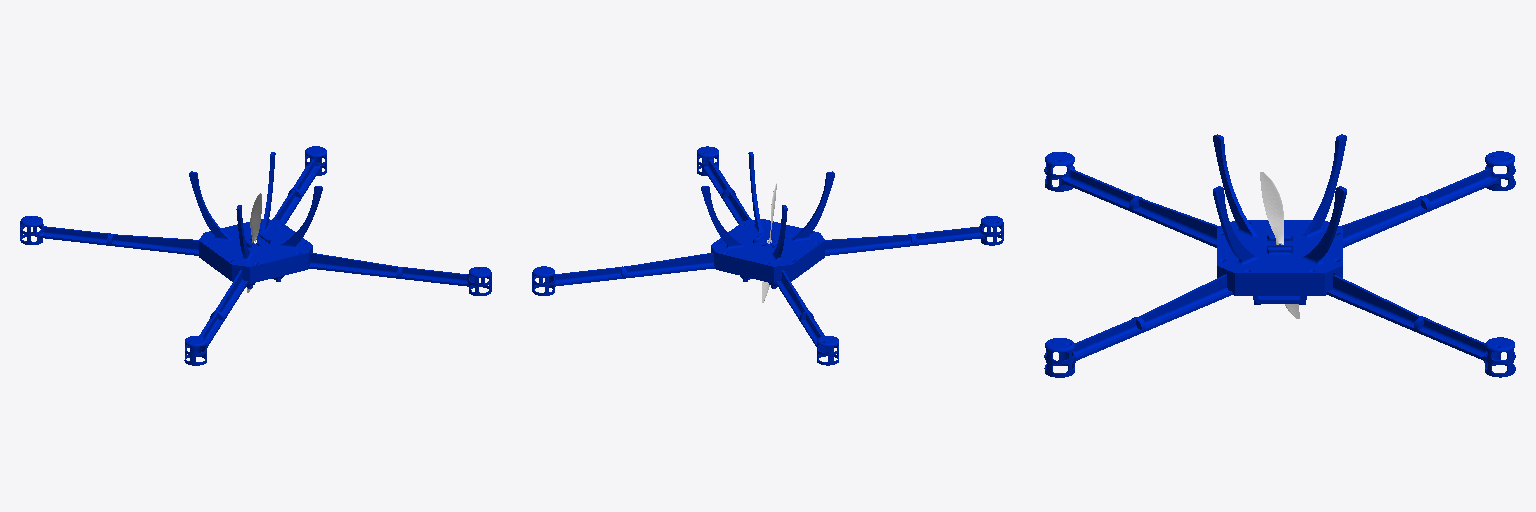
The robot description file, URDF, robot "quad":
<?xml version="1.0"?>

<robot name="quad">
	<link name="base_link">
		<visual>
			<origin rpy="-1.57 0 0"/>
			<geometry>
				<mesh filename="package://last_letter/data/parameters/aircraft/quadrotor/urdf/quadrotor.stl" scale="0.0015 0.0015 0.0015"/>
			</geometry>
			<material name="blueCuriosity">
				<color rgba="0.0 0.2 0.8 1"/>
			</material>
		</visual>
	</link>

	<link name="propeller_1">
		<visual>
			<geometry>
				<mesh filename="package://last_letter/data/parameters/aircraft/quadrotor/urdf/10x4.7.stl"/>
			</geometry>
			<material name="whitePurity">
				<color rgba="1.0 1.0 1.0 1.0"/>
			</material>
		</visual>
	</link>

	<link name="propeller_2">
		<visual>
			<geometry>
				<mesh filename="package://last_letter/data/parameters/aircraft/quadrotor/urdf/10x4.7.stl"/>
			</geometry>
			<material name="whitePurity"/>
		</visual>
	</link>

	<link name="propeller_3">
		<visual>
			<geometry>
				<mesh filename="package://last_letter/data/parameters/aircraft/quadrotor/urdf/10x4.7.stl"/>
			</geometry>
			<material name="whitePurity"/>
		</visual>
	</link>

	<link name="propeller_4">
		<visual>
			<geometry>
				<mesh filename="package://last_letter/data/parameters/aircraft/quadrotor/urdf/10x4.7.stl"/>
			</geometry>
			<material name="whitePurity"/>
		</visual>
	</link>

	<joint name="motor_mount_1" type="floating">
		<parent link="base_link"/>
		<child link="propeller_1"/>
	</joint>

	<joint name="motor_mount_2" type="floating">
		<parent link="base_link"/>
		<child link="propeller_2"/>
	</joint>

	<joint name="motor_mount_3" type="floating">
		<parent link="base_link"/>
		<child link="propeller_3"/>
	</joint>

	<joint name="motor_mount_4" type="floating">
		<parent link="base_link"/>
		<child link="propeller_4"/>
	</joint>

</robot>

--- What the picture shows (computed from the rendered views, not written in the file) ---
3 views of the same robot in one strip: view 1: azimuth 30°, elevation 25°; view 2: azimuth 150°, elevation 25°; view 3: azimuth 270°, elevation 25° (orthographic).
Model quad with 5 links and 4 joints (4 floating), rooted at base_link, posed all joints at 0.
Visible links, largest first — view 1: base_link; view 2: base_link; view 3: base_link, propeller_1.
Link boxes in pixels (x1=…): base_link: x1=20, y1=146, x2=491, y2=365; base_link: x1=532, y1=146, x2=1003, y2=365; base_link: x1=1044, y1=134, x2=1515, y2=377; propeller_1: x1=1260, y1=172, x2=1299, y2=318.
Size in the robot's own frame: 0.7161 by 0.7161 by 0.2658 metres.
Meshes: 2 distinct files referenced, 5 mesh visuals loaded (2 binary STL).